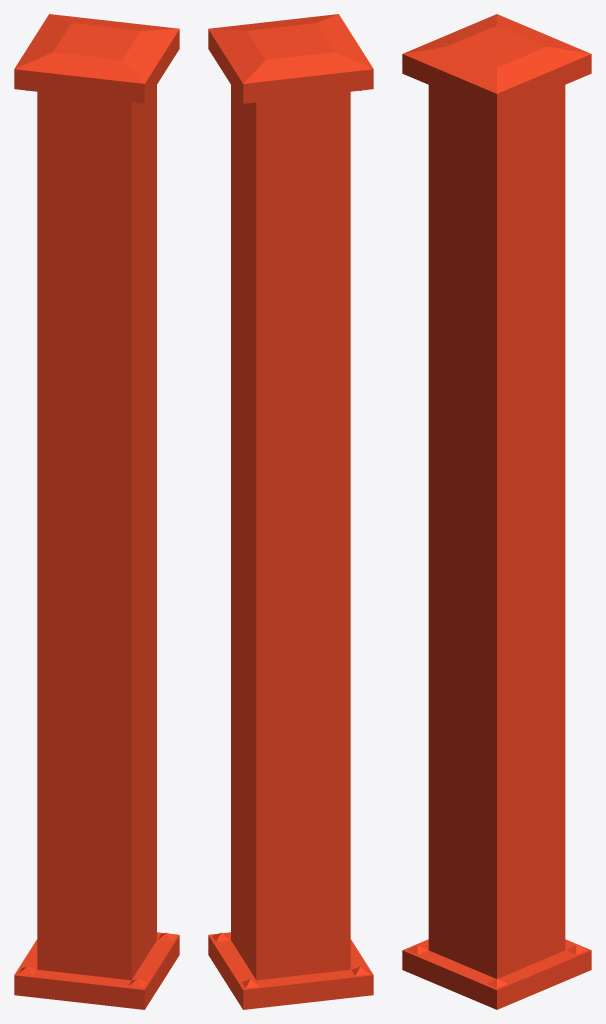
The model's file is SM_Pipe_Straight_B_City.fbx.
3 views of the same model, side by side, from view 1: azimuth 30°, elevation 25°; view 2: azimuth 150°, elevation 25°; view 3: azimuth 270°, elevation 25° (orthographic).
Parts seen in each view (by area): view 1: SM_Pipe_Straight_B_City; view 2: SM_Pipe_Straight_B_City; view 3: SM_Pipe_Straight_B_City.
Boxes of the visible parts, x1,y1,x2,y2 form: SM_Pipe_Straight_B_City: (14,14,179,1009); SM_Pipe_Straight_B_City: (208,14,373,1009); SM_Pipe_Straight_B_City: (402,14,591,1009).
Size of the model in its own units: 0.0928 by 0.504 by 0.0928.
